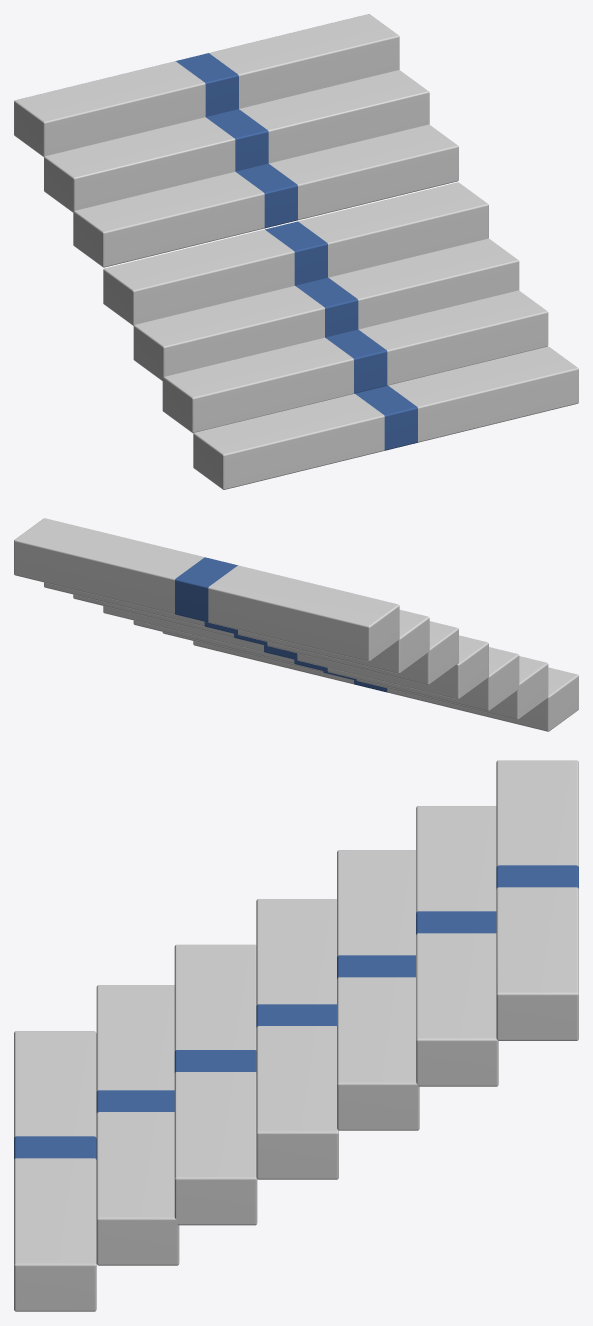
The model's file is Tangga.fbx.
The picture shows the model from 3 angles, top to bottom: view 1: azimuth 30°, elevation 25°; view 2: azimuth 150°, elevation 25°; view 3: azimuth 270°, elevation 25°; orthographic projection. The views are drawn at different scales.
Parts seen in each view (by area): view 1: pCube9; view 2: pCube9; view 3: pCube9.
Part boxes in pixels (bbox=[...]): pCube9: bbox=[14, 14, 578, 489]; pCube9: bbox=[14, 518, 578, 731]; pCube9: bbox=[14, 760, 578, 1311].
Size of the model in its own units: 952 by 606 by 972.
